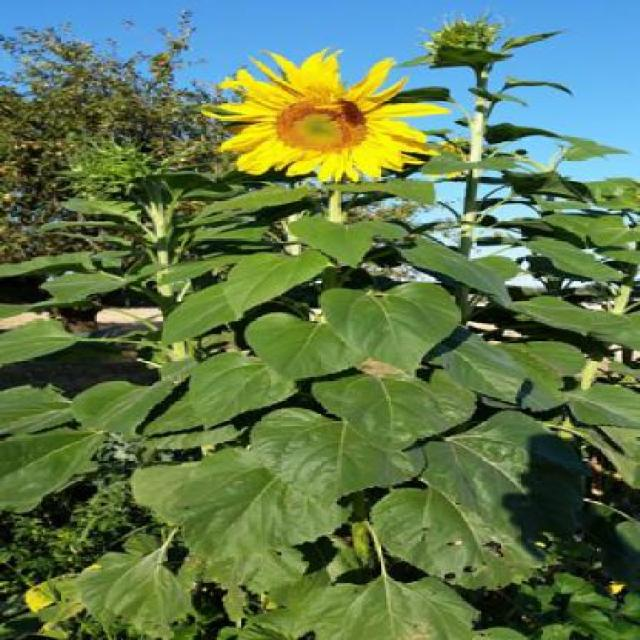sunflower: (204, 49, 445, 185)
